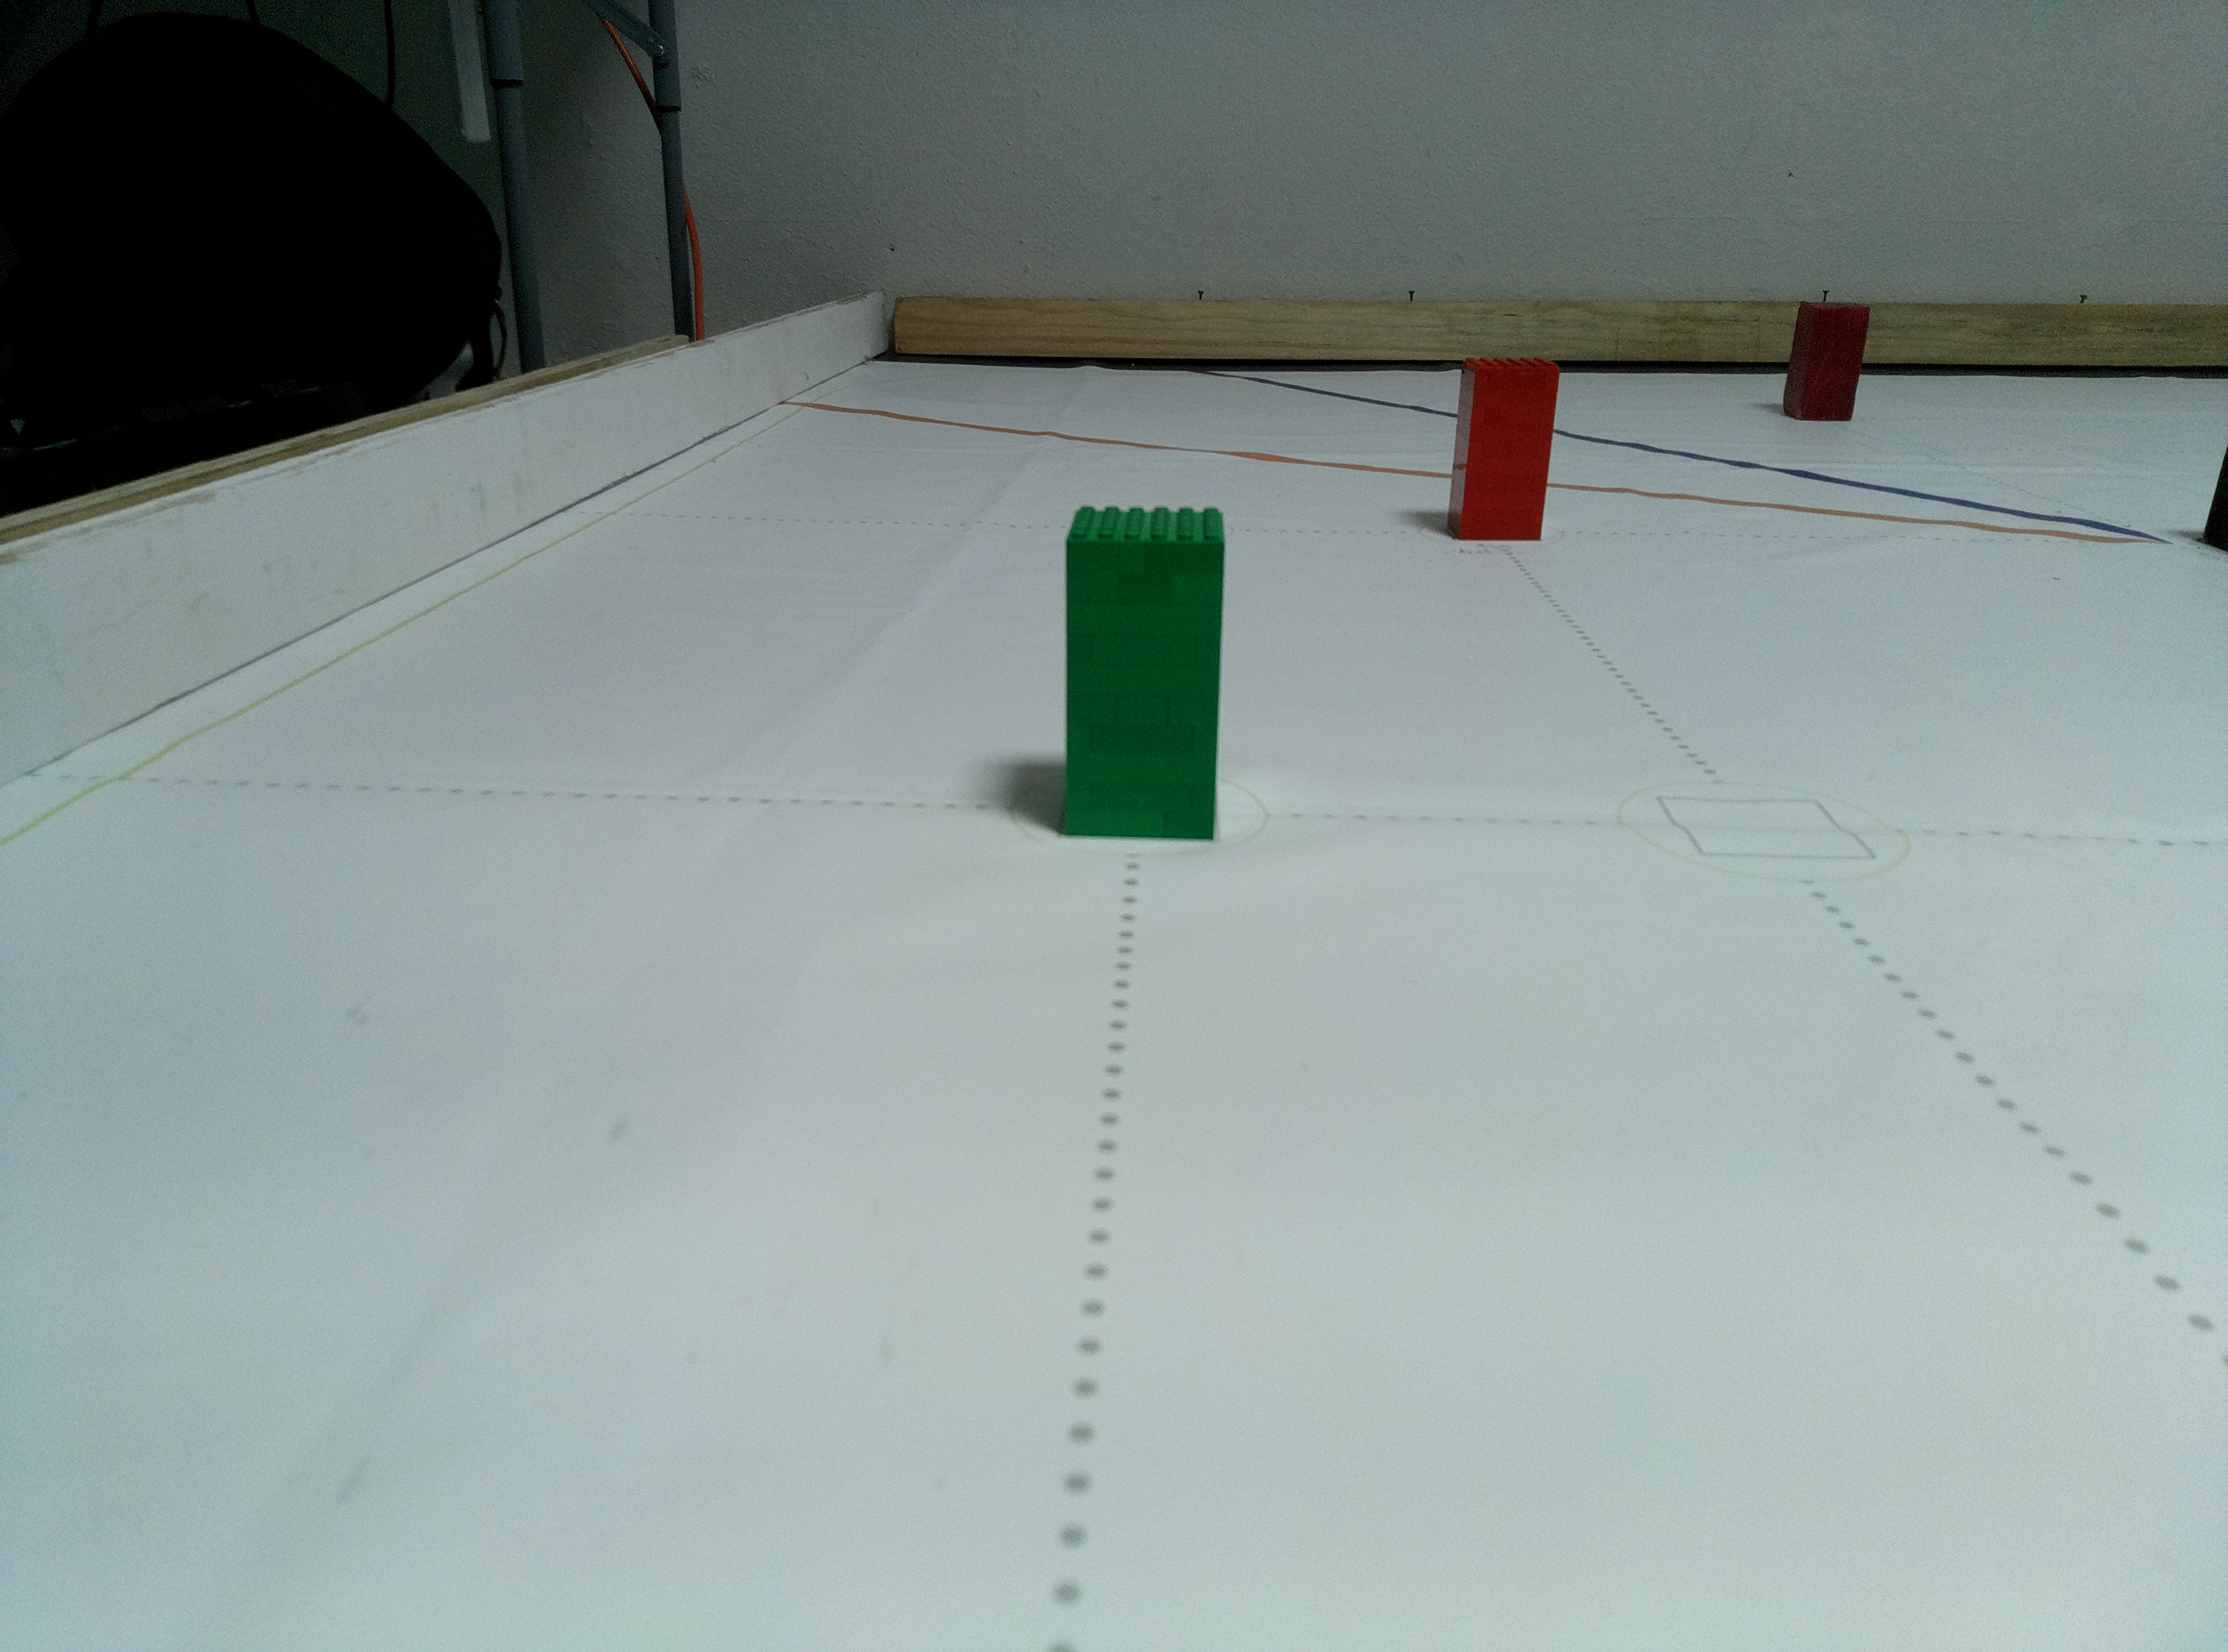greenbox: (1058, 503, 1227, 842)
redbox: (1447, 354, 1560, 543), (1782, 298, 1871, 422)
